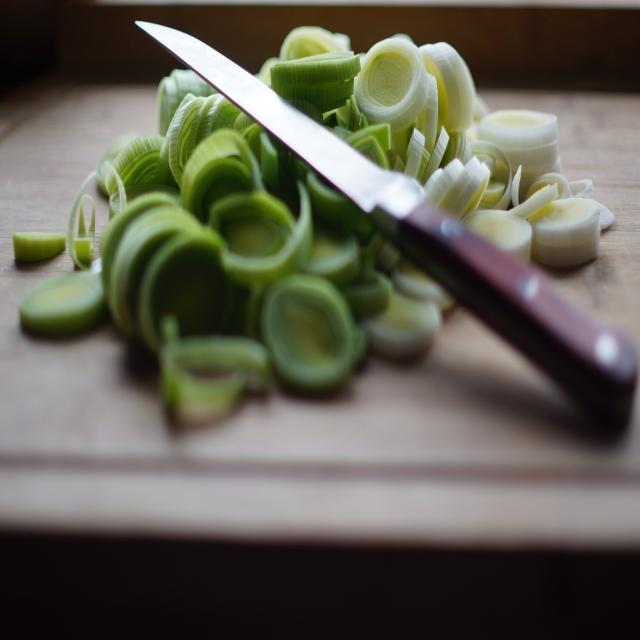Knife: (136, 21, 638, 424)
